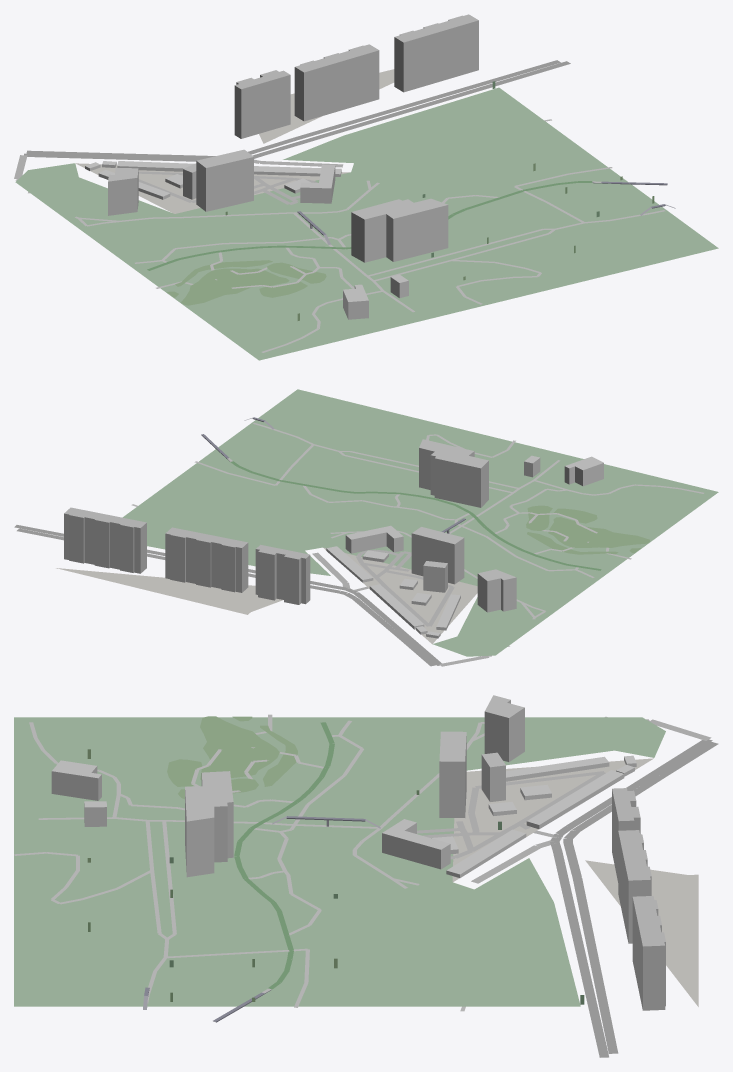
3 views of the same model, one above another, from view 1: azimuth 30°, elevation 25°; view 2: azimuth 150°, elevation 25°; view 3: azimuth 270°, elevation 25° (orthographic). The views are drawn at different scales.
Size of the model in its own units: 590 by 52.5 by 515.
